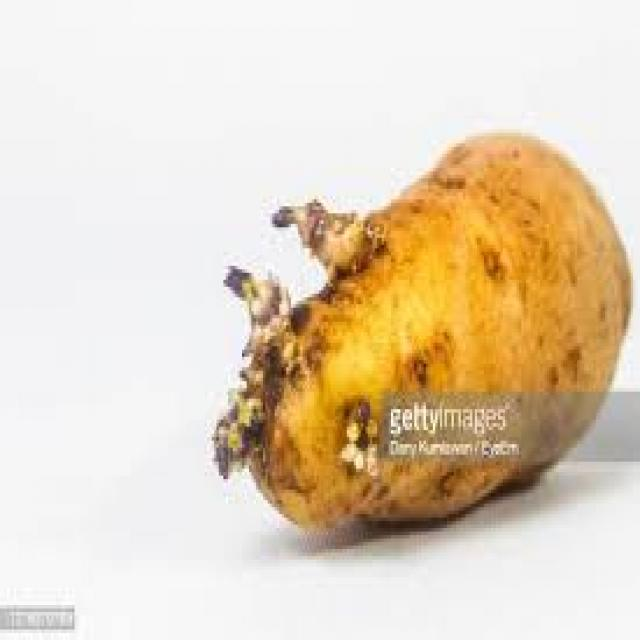organic waste: (210, 129, 628, 532)
